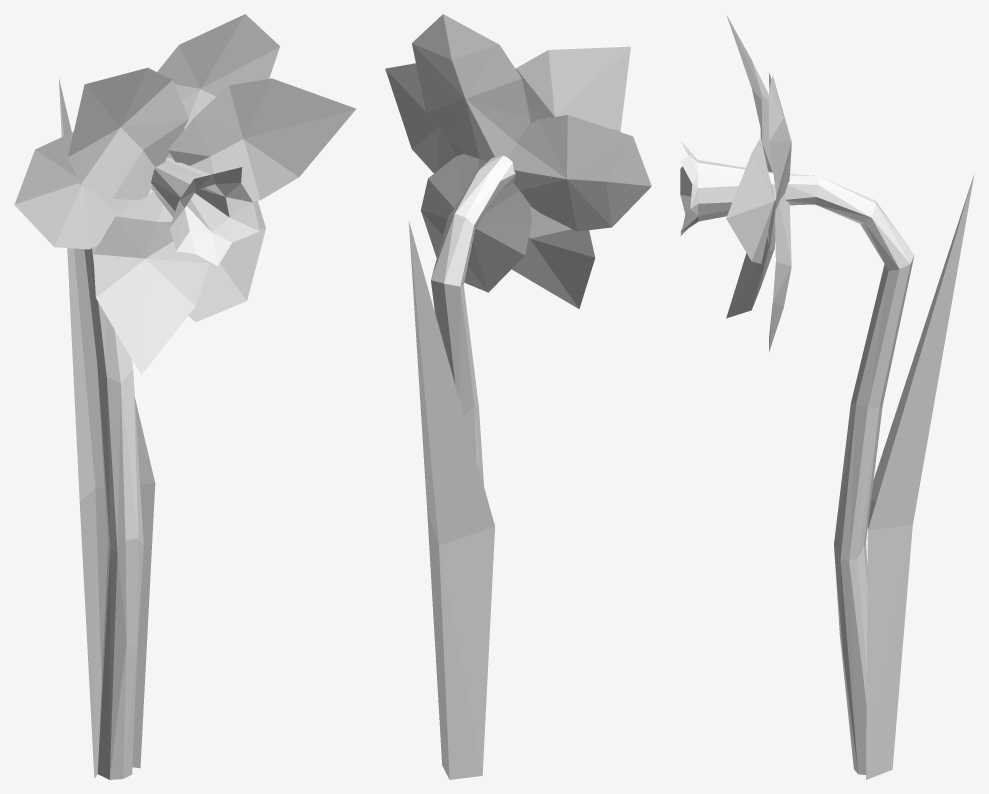
Rendered from Env_Daffodil_Middle_Detail_01.glb.
The picture shows the model from 3 angles, left to right: view 1: azimuth 30°, elevation 25°; view 2: azimuth 150°, elevation 25°; view 3: azimuth 270°, elevation 25°; orthographic projection. The views are drawn at different scales.
Visible parts, largest first — view 1: Env_Daffodil_Middle_Detail_01; view 2: Env_Daffodil_Middle_Detail_01; view 3: Env_Daffodil_Middle_Detail_01.
Part boxes in pixels (x1=…): Env_Daffodil_Middle_Detail_01: x1=14, y1=14, x2=356, y2=779; Env_Daffodil_Middle_Detail_01: x1=385, y1=14, x2=651, y2=779; Env_Daffodil_Middle_Detail_01: x1=680, y1=15, x2=974, y2=779.
Size of the model in its own units: 0.1887 by 0.4417 by 0.165.
Materials: 1 (1 with a texture image).
